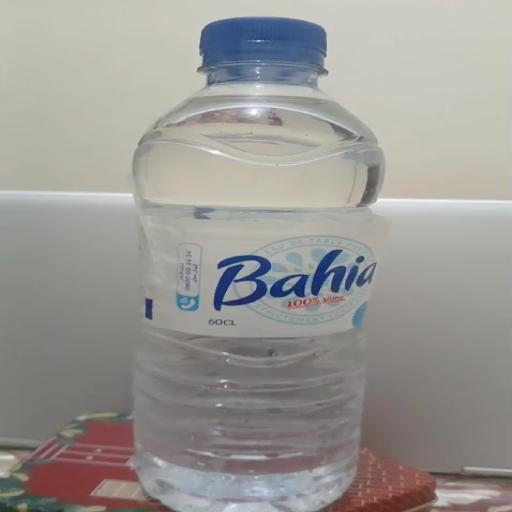bouteille conformite: (130, 16, 372, 512)
